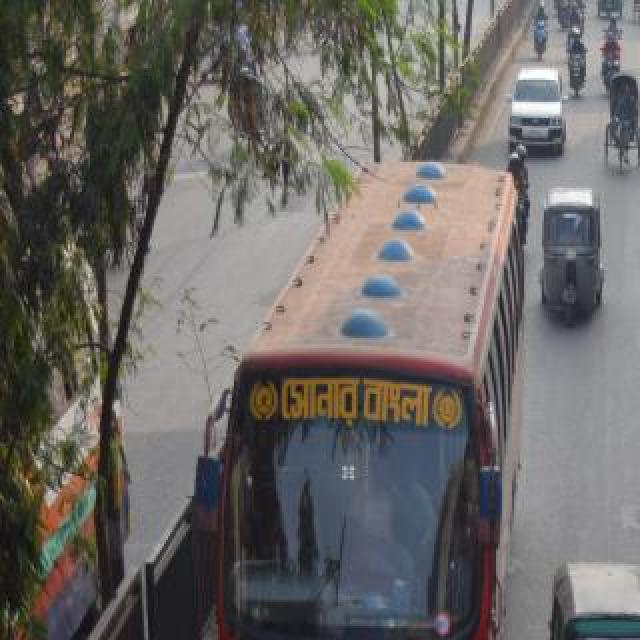bus: (186, 158, 498, 640), (0, 190, 128, 640)
car: (506, 68, 564, 136)
motorbike: (525, 0, 553, 58), (567, 27, 587, 97), (595, 38, 619, 92)
